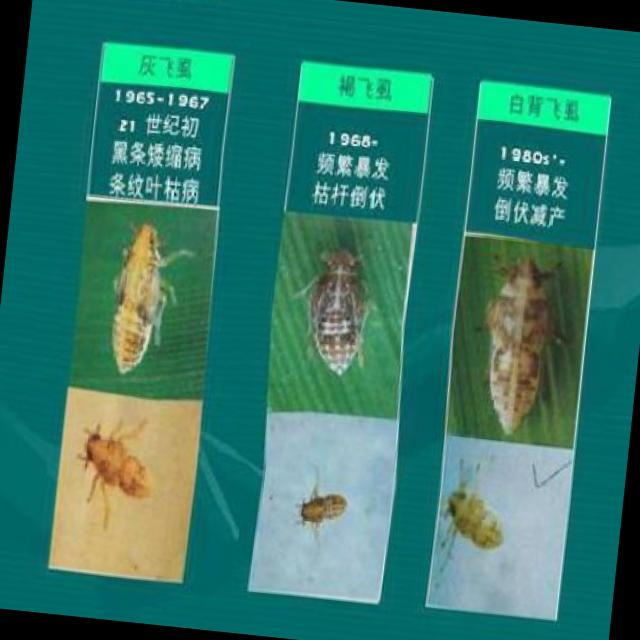brown-planthopper: (476, 255, 560, 436), (294, 236, 382, 383), (105, 218, 175, 376)
